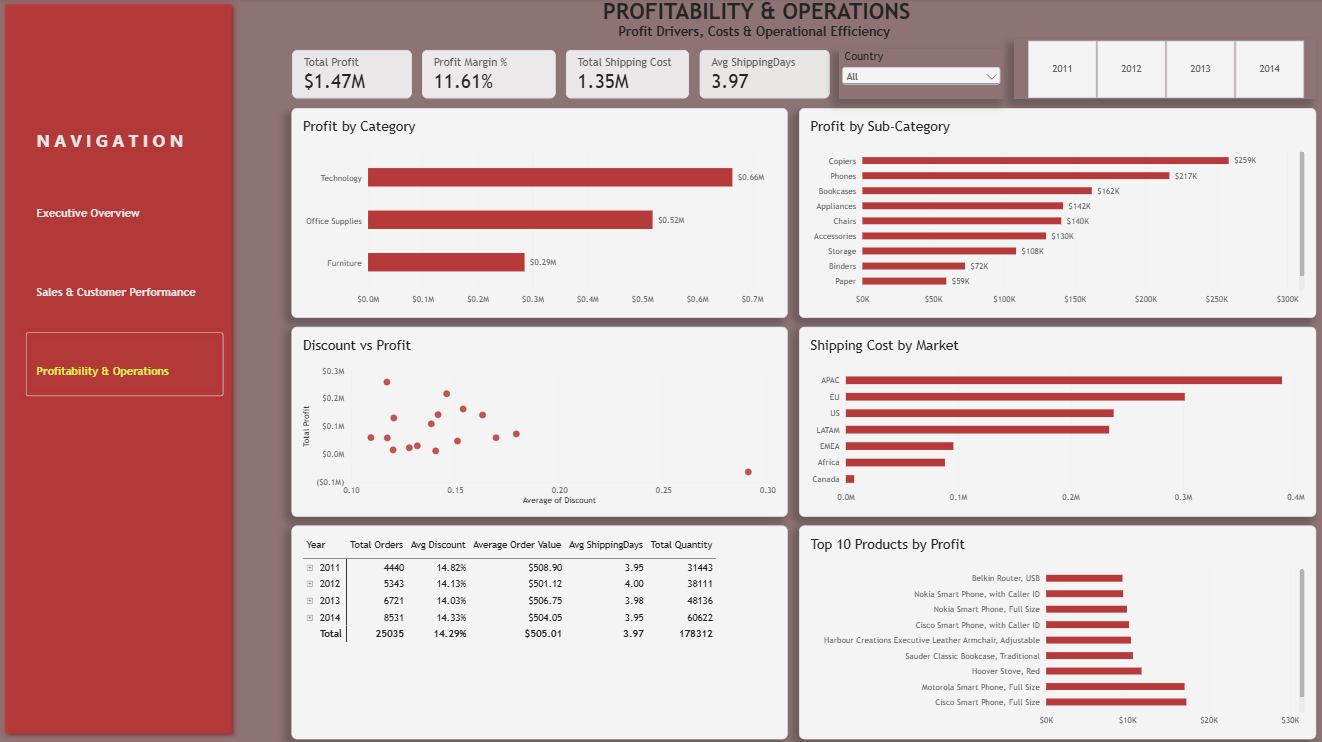

The page's visual inventory and layout, read from the dashboard file:
{"tool":"powerbi","page":{"name":"Profitability & Operations","canvas":[1920,1080],"ordinal":2},"visuals":[{"type":"textbox","box":[10.9,0,1909.2,70.6],"z":0},{"type":"cardVisual","fields":{"Data":["_Measures.Total Profit"]},"box":[22.6,72,187.3,86.4],"z":1},{"type":"cardVisual","fields":{"Data":["_Measures.Profit Margin %"]},"box":[209.9,72,195.5,86.4],"z":2},{"type":"cardVisual","fields":{"Data":["_Measures.Total Shipping Cost"]},"box":[405.5,72,181.1,86.4],"z":3},{"type":"cardVisual","fields":{"Data":["_Measures.Avg ShippingDays"]},"box":[586.6,72,179.1,84.4],"z":4},{"type":"slicer","fields":{"Values":["DimDate.Year"]},"box":[765.7,72,526.9,86.4],"z":5},{"type":"clusteredBarChart","title":"Profit by Category","fields":{"Category":["DimProduct.Category"],"Y":["_Measures.Total Profit"]},"box":[23.5,173.7,877.7,304],"z":6},{"type":"clusteredBarChart","title":"Profit by Sub-Category","fields":{"Category":["DimProduct.Sub.Category"],"Y":["_Measures.Total Profit"]},"box":[919.3,173.7,977.2,302.2],"z":7},{"type":"scatterChart","title":"Discount vs Profit","fields":{"X":["Avg(FactSales.Discount)"],"Y":["_Measures.Total Profit"],"Category":["DimProduct.Sub.Category"]},"box":[23.5,490.4,877.7,247.9],"z":8},{"type":"clusteredBarChart","title":"Shipping Cost by Market","fields":{"Y":["_Measures.Total Shipping Cost"],"Category":["DimGeography.Market"]},"box":[919.3,490.4,977.2,247.9],"z":9},{"type":"clusteredBarChart","title":"Bottom 10 Products by Profit","fields":{"Y":["_Measures.Total Profit"],"Category":["DimProduct.Product.Name"]},"box":[23.5,751,1873,329.4],"z":10},{"type":"textbox","box":[1333.8,55.6,586.6,197.6],"z":11}]}

Visuals, with their boxes in screenshot pixels (x1, y1, x2, y2), scaled from the page's 1920x1080 canvas onto the 1322x742 screenshot:
textbox: (8, 0, 1321, 49)
cardVisual - _Measures.Total Profit: (16, 49, 145, 109)
cardVisual - _Measures.Profit Margin %: (145, 49, 279, 109)
cardVisual - _Measures.Total Shipping Cost: (279, 49, 404, 109)
cardVisual - _Measures.Avg ShippingDays: (404, 49, 527, 107)
slicer - DimDate.Year: (527, 49, 890, 109)
"Profit by Category" clusteredBarChart: (16, 119, 621, 328)
"Profit by Sub-Category" clusteredBarChart: (633, 119, 1306, 327)
"Discount vs Profit" scatterChart: (16, 337, 621, 507)
"Shipping Cost by Market" clusteredBarChart: (633, 337, 1306, 507)
"Bottom 10 Products by Profit" clusteredBarChart: (16, 516, 1306, 741)
textbox: (918, 38, 1321, 174)
